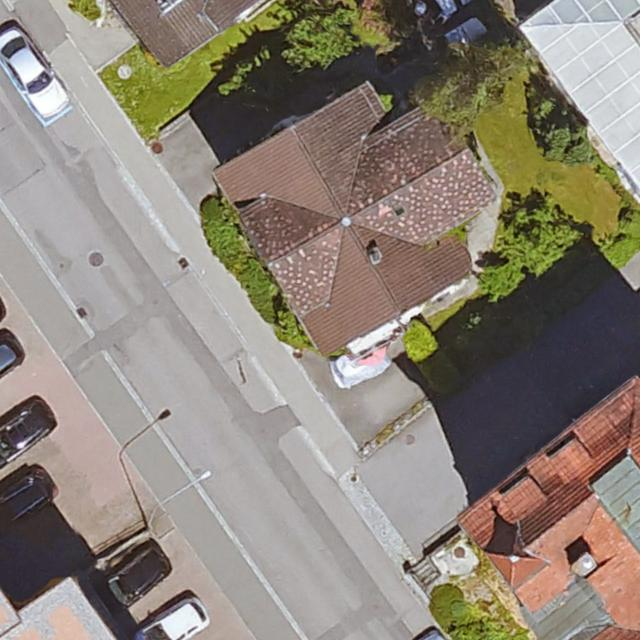tree: (289, 10, 358, 66), (419, 67, 487, 120), (521, 208, 575, 271), (454, 37, 520, 85), (539, 107, 592, 158), (487, 263, 535, 315)
